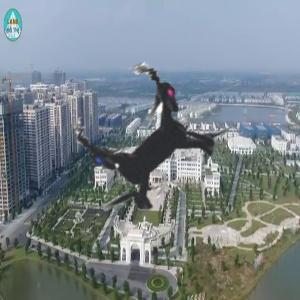drone: (13, 17, 283, 287)
